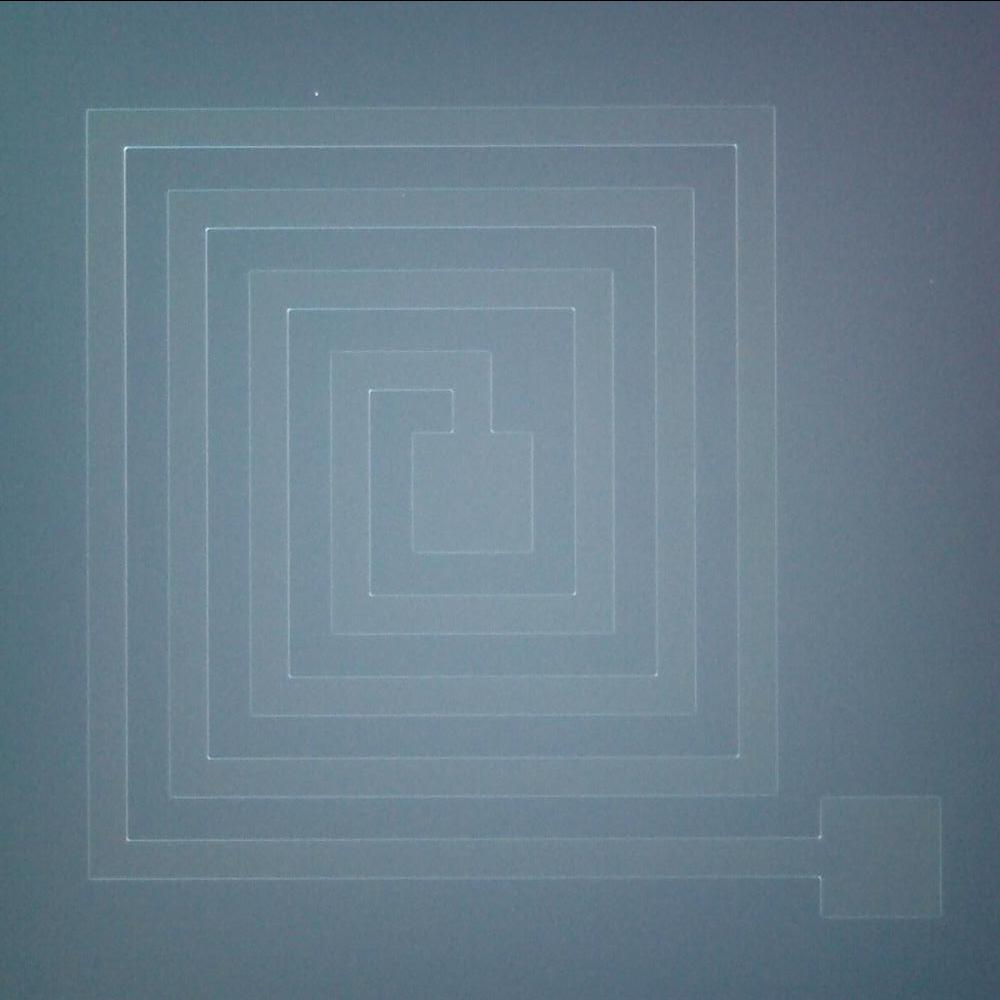dot: (304, 78, 330, 106)
